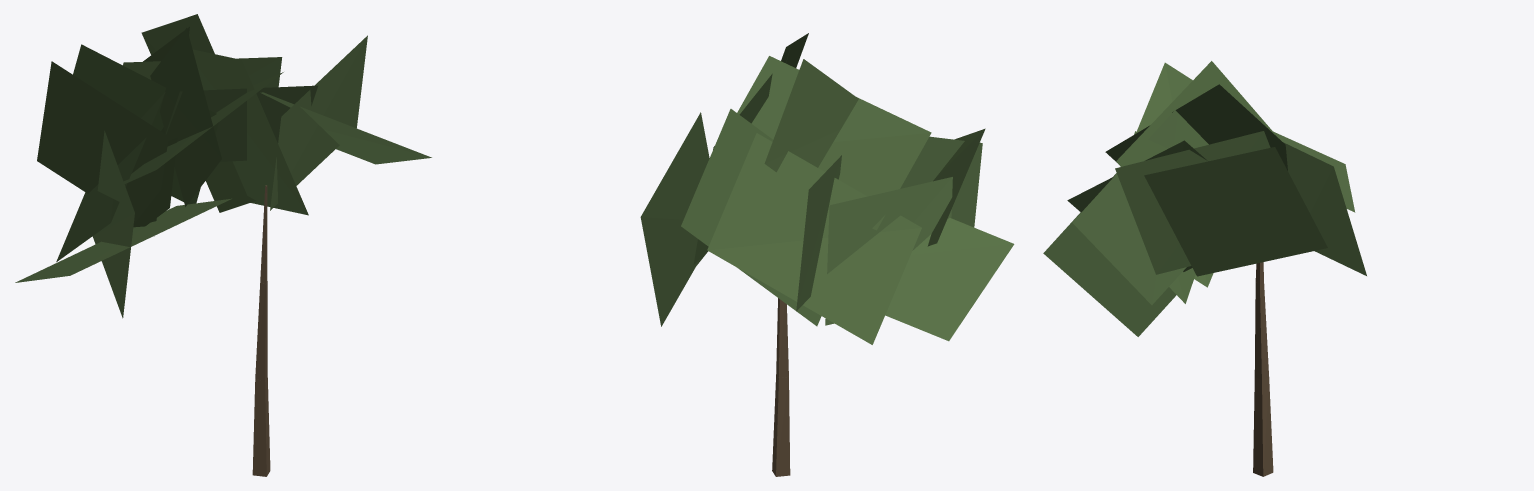
Rendered from giant_birch-far.glb.
3 renders of one model, left to right at view 1: azimuth 30°, elevation 25°; view 2: azimuth 150°, elevation 25°; view 3: azimuth 270°, elevation 25°, orthographic. The views are drawn at different scales.
Parts seen in each view (by area): view 1: world-scenery/giant_birch-far; view 2: world-scenery/giant_birch-far; view 3: world-scenery/giant_birch-far.
Part boxes in pixels (x1,y1,x2,y2): world-scenery/giant_birch-far: (15,14,431,476); world-scenery/giant_birch-far: (640,33,1014,476); world-scenery/giant_birch-far: (1043,61,1366,476).
Bounding box in the file's own units: 7.42 × 7.3 × 7.24.
